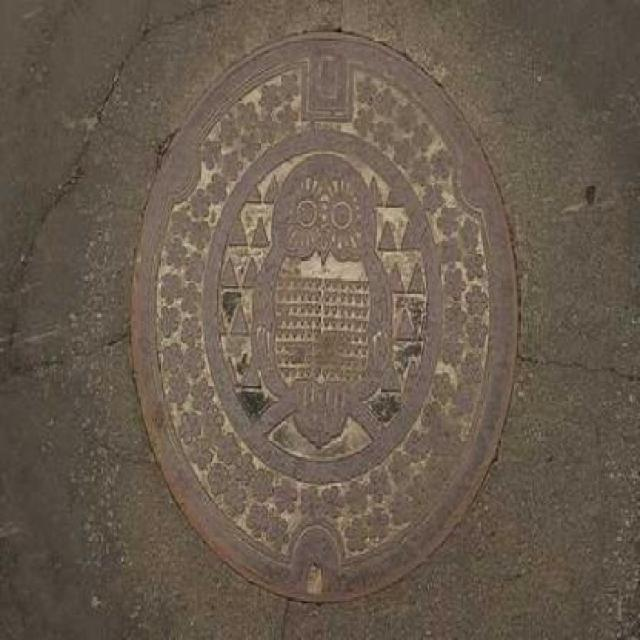Manhole: (128, 23, 534, 620)
